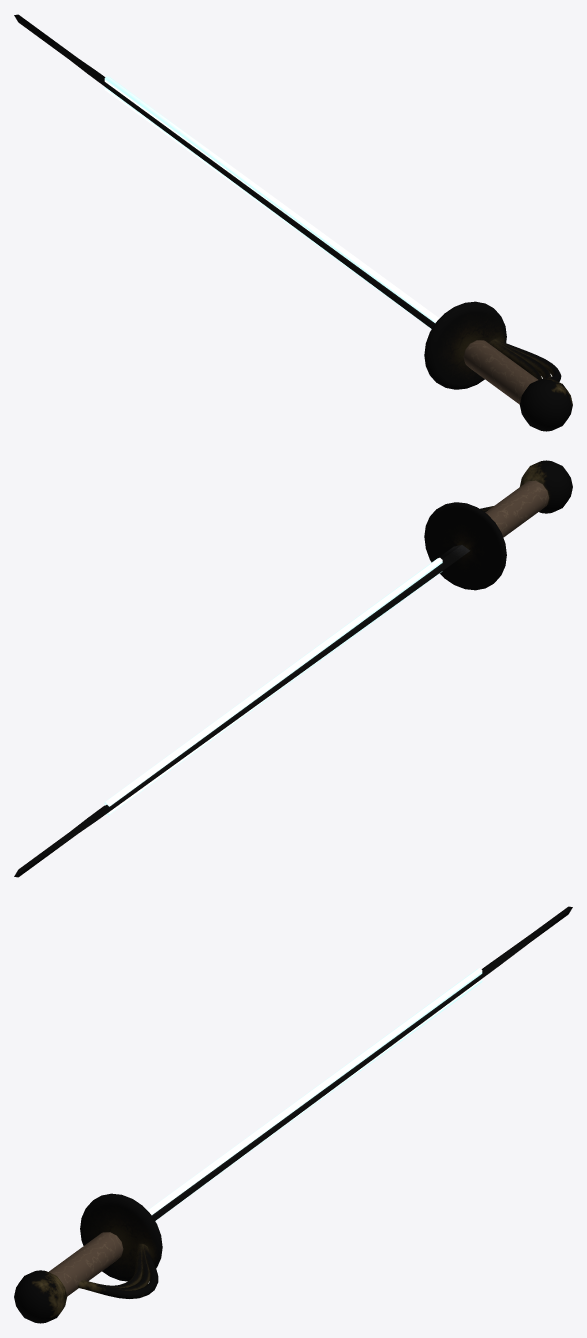
The model's file is estoque.glb.
The picture shows the model from 3 angles, top to bottom: view 1: azimuth 30°, elevation 25°; view 2: azimuth 150°, elevation 25°; view 3: azimuth 330°, elevation 25°; orthographic projection.
Parts seen in each view (by area): view 1: estoque; view 2: estoque; view 3: estoque.
Boxes of the visible parts, x1,y1,x2,y2 form: estoque: (14, 14, 572, 431); estoque: (14, 460, 572, 877); estoque: (14, 906, 572, 1323).
Size of the model in its own units: 0.1324 by 0.1061 by 1.23.
Materials: 2 (1 with a texture image).
